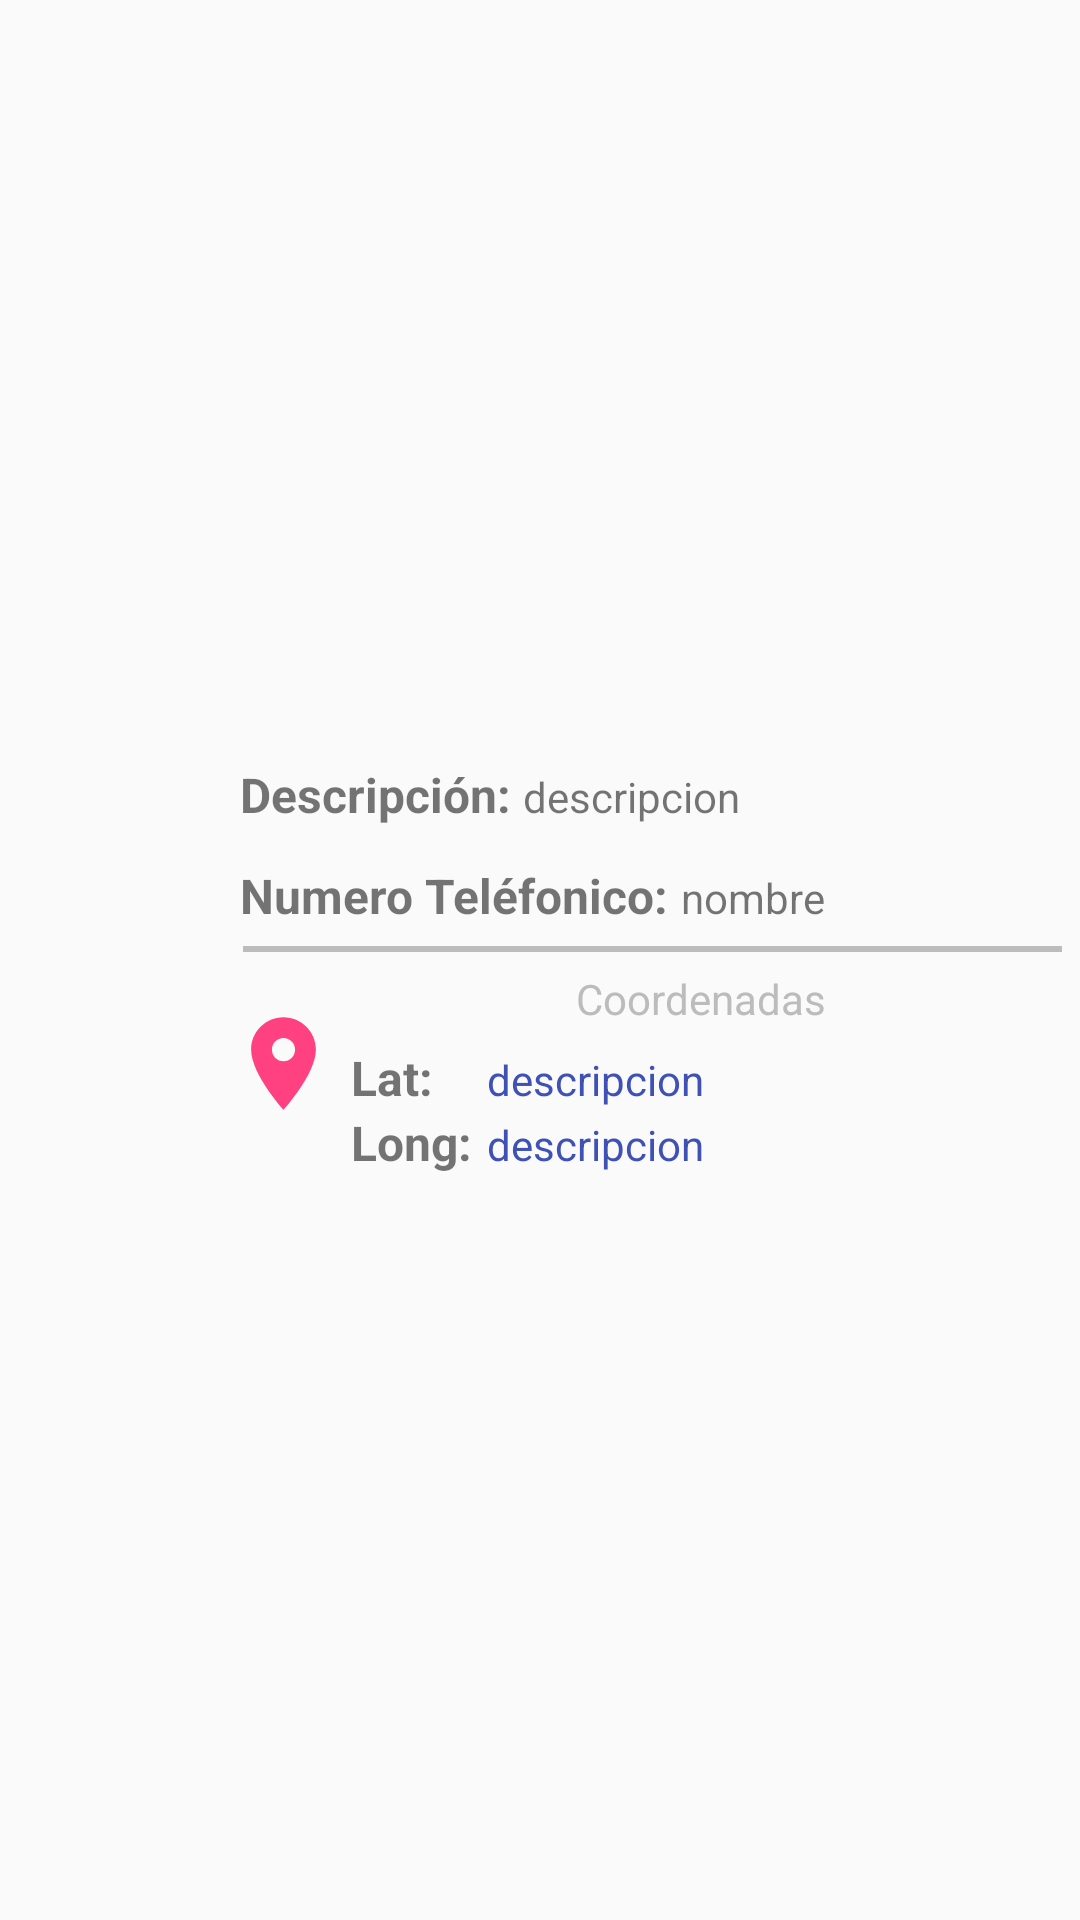

Screen size 1080px×1920px. Icon name, then its box in pixels as {"left": x1, "top": y1, "right": x2, "bottom": y2}:
location: {"left": 251, "top": 1017, "right": 316, "bottom": 1110}
